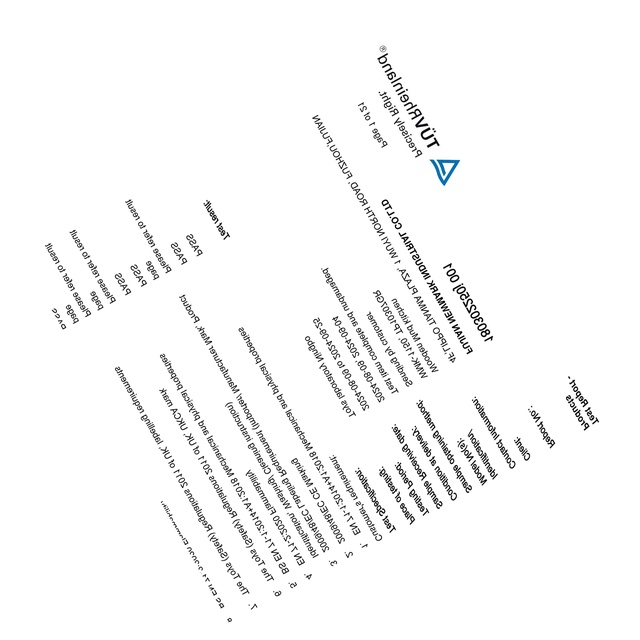tuv_rheinland: (373, 43, 462, 186)
